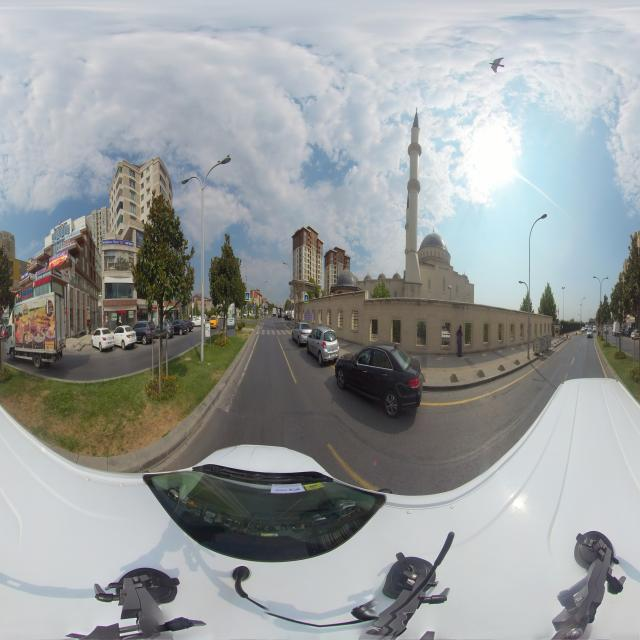SignStore: (102, 239, 134, 247), (32, 274, 50, 288), (58, 237, 75, 250), (53, 220, 69, 233), (35, 265, 50, 277), (65, 228, 81, 239), (34, 247, 45, 258), (27, 257, 37, 268), (52, 268, 62, 278), (62, 270, 69, 282), (21, 271, 28, 280), (137, 309, 148, 313), (2, 312, 9, 318), (152, 306, 157, 310), (87, 313, 90, 319), (87, 307, 90, 312)
